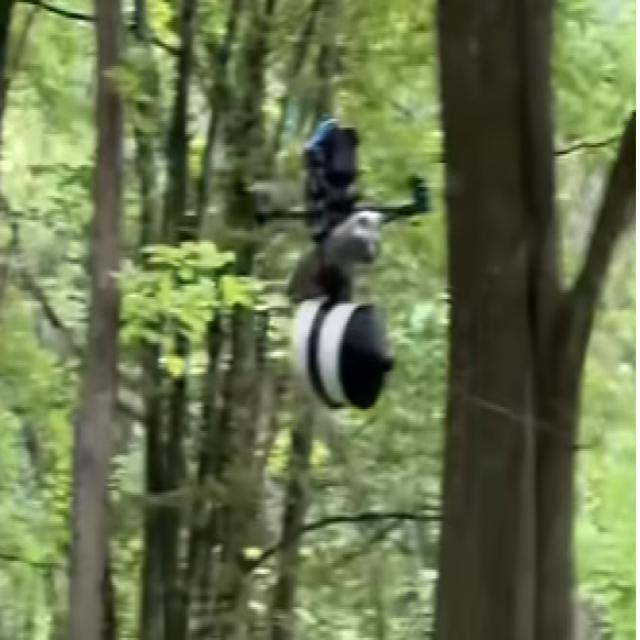drone: (227, 112, 445, 414)
